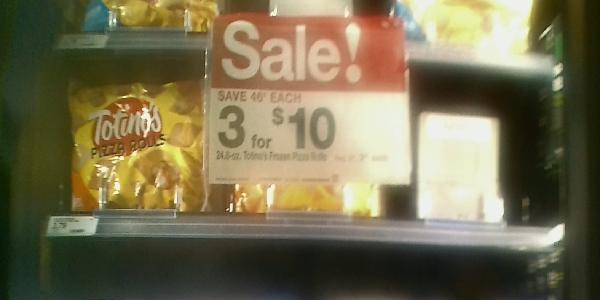icecream: (204, 46, 389, 221), (63, 63, 209, 216)
